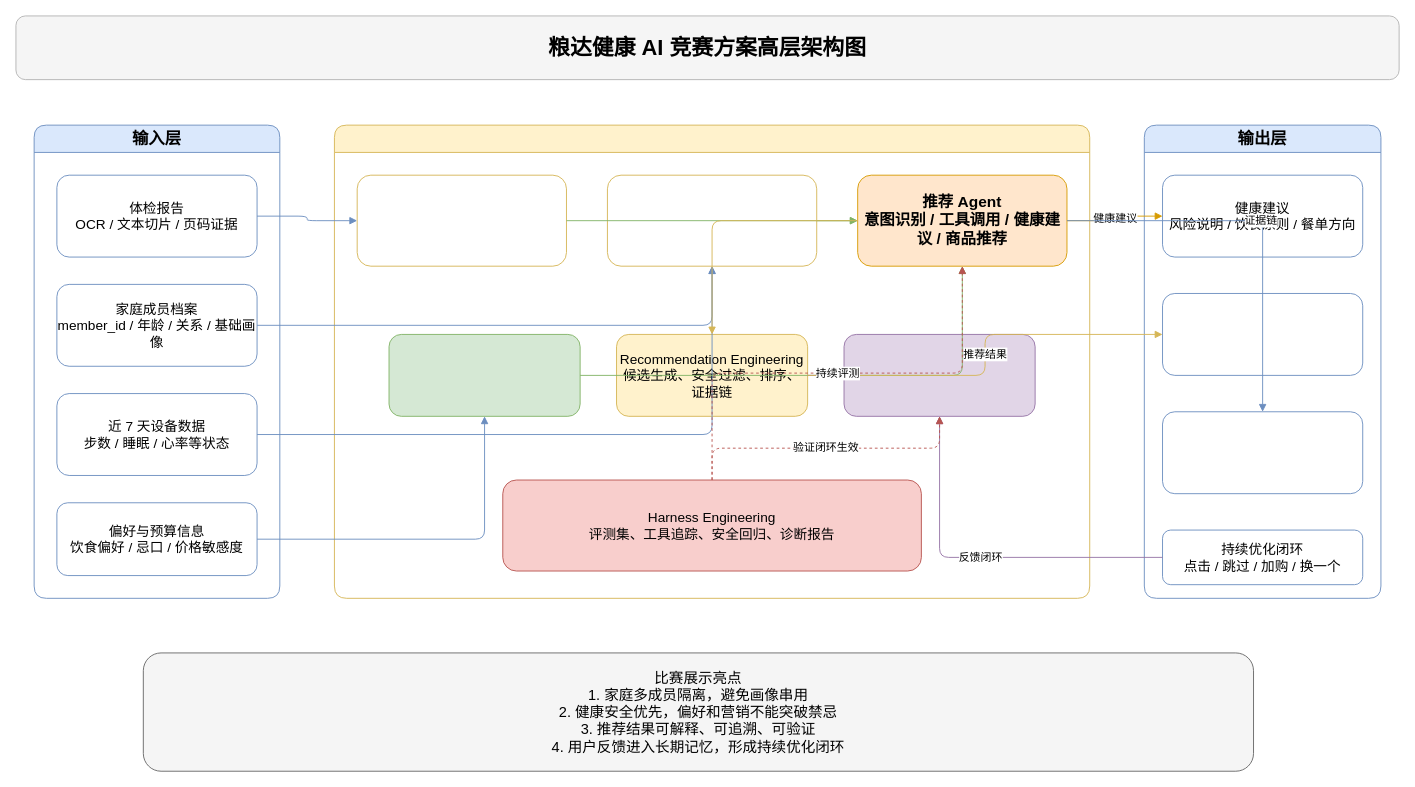
Image size: 1415x787. Some labels were removed from this diagram. The box of each missing label's shape, as (x1, y1, x2, y2) in pixels:
Context Engineering 多源上下文检索、压缩、排序、裁剪: (388, 334, 580, 416)
Loop Engineering 反馈理解、长期记忆写回、策略更新: (843, 334, 1035, 416)
健康报告知识库 RAG 检索 / 结构化健康事实 / 原文证据追溯: (356, 174, 566, 266)
可追溯解释 报告证据 / 商品标签 / 反馈依据: (1162, 411, 1363, 494)
商品推荐 候选商品 / 推荐理由 / 安全替代方案: (1162, 293, 1363, 375)
家庭健康画像引擎 成员识别 / 数据隔离 / 家庭范围聚合: (607, 174, 817, 266)
核心智能层: (334, 124, 1090, 598)
